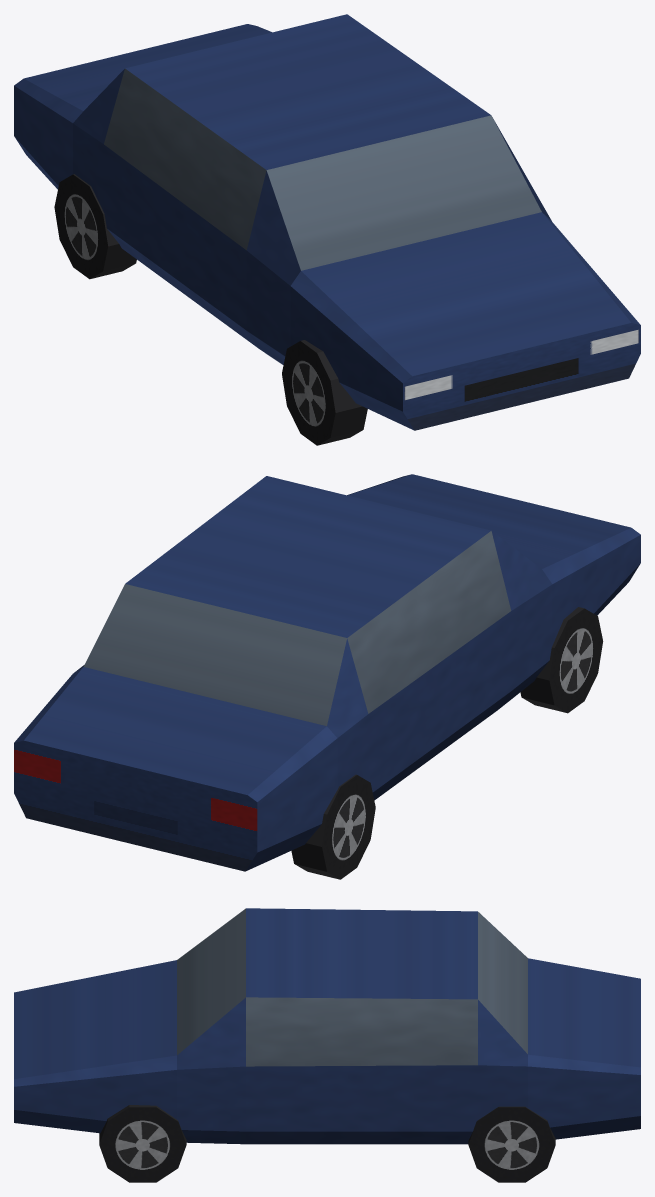
The model's file is SM_Morin_Auto_C_Col_LOD1.fbx.
3 views of the same model, one above another, from view 1: azimuth 30°, elevation 25°; view 2: azimuth 150°, elevation 25°; view 3: azimuth 270°, elevation 25° (orthographic). The views are drawn at different scales.
Parts seen in each view (by area): view 1: SM_Morin_Auto_C_Col_LOD1; view 2: SM_Morin_Auto_C_Col_LOD1; view 3: SM_Morin_Auto_C_Col_LOD1.
Part boxes in pixels (bbox=[...]): SM_Morin_Auto_C_Col_LOD1: bbox=[14, 14, 640, 445]; SM_Morin_Auto_C_Col_LOD1: bbox=[14, 474, 640, 879]; SM_Morin_Auto_C_Col_LOD1: bbox=[14, 908, 640, 1182].
Size of the model in its own units: 178 by 445 by 138.
Materials: 1 (1 with a texture image).
